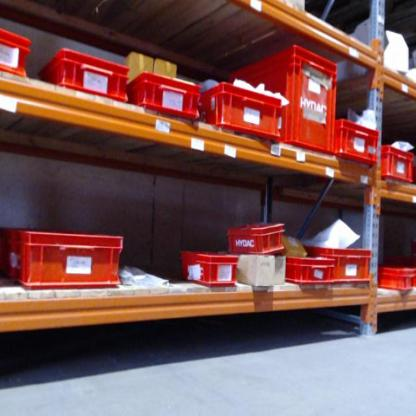small_load_carrier: (219, 37, 334, 149), (3, 231, 121, 290), (37, 47, 131, 108), (203, 78, 284, 148), (126, 69, 199, 124), (301, 240, 377, 285), (178, 251, 238, 288), (2, 24, 37, 86), (334, 119, 378, 165), (227, 223, 284, 258), (285, 253, 336, 287), (378, 145, 414, 185), (377, 262, 415, 291)
